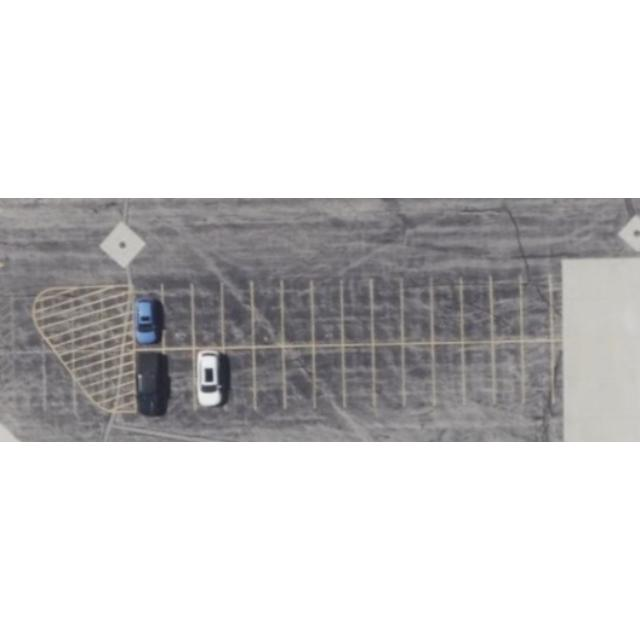Empty: (402, 277, 432, 343), (163, 286, 194, 348), (283, 282, 313, 346), (342, 280, 372, 344), (372, 280, 402, 344), (224, 349, 256, 409), (374, 344, 404, 408), (434, 342, 464, 406), (254, 348, 284, 410), (344, 346, 374, 408), (464, 343, 494, 405), (523, 342, 553, 404), (223, 282, 251, 348), (433, 278, 461, 344), (493, 276, 521, 342), (314, 347, 344, 408), (494, 342, 524, 403), (194, 283, 222, 347), (254, 282, 282, 346), (313, 281, 341, 345), (463, 278, 491, 342), (523, 276, 551, 340), (166, 348, 194, 412), (405, 344, 433, 406), (286, 347, 314, 408)
Parked: (193, 348, 224, 410), (132, 288, 164, 348), (136, 350, 166, 414)
